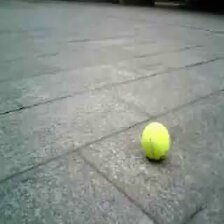tennis: (140, 122, 170, 162)
